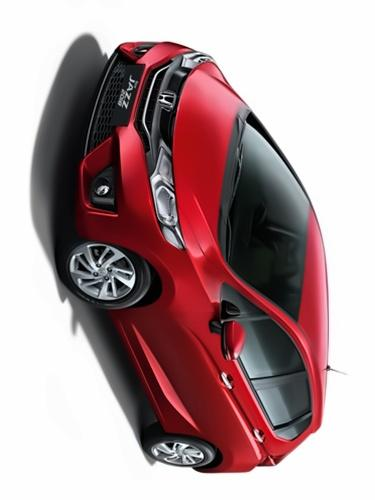Car hood: (171, 55, 246, 294)
Fender - -F-L-: (93, 233, 249, 316)
Fender - -R-L-: (165, 425, 300, 482)
Front bumper: (67, 33, 196, 269)
Headlight - -L-: (147, 135, 182, 251)
Headlight - -R-: (178, 48, 218, 74)
Passenger-s door - -F-L-: (105, 296, 320, 393)
Passenger-s door - -R-L-: (118, 353, 338, 450)
Side bumper - -L-: (106, 306, 186, 438)
Side mirror - -L-: (208, 310, 239, 361)
